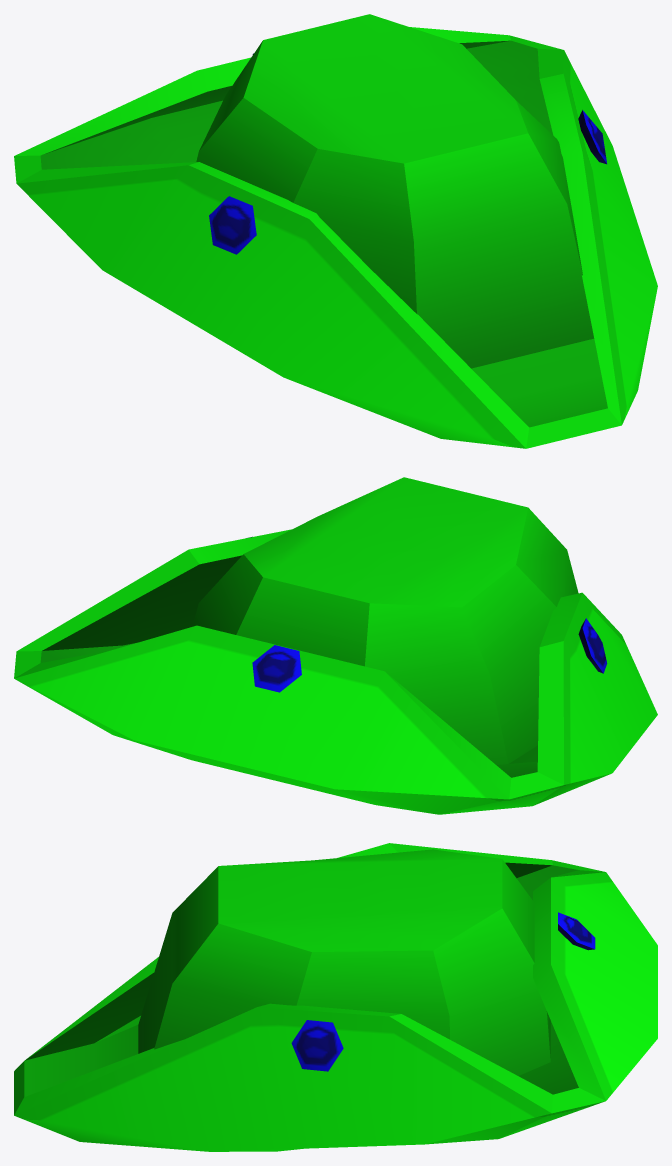
File: PirateHat.fbx
The picture shows the model from 3 angles, top to bottom: view 1: azimuth 30°, elevation 25°; view 2: azimuth 150°, elevation 25°; view 3: azimuth 270°, elevation 25°; orthographic projection. The views are drawn at different scales.
Parts seen in each view (by area): view 1: PirateHat; view 2: PirateHat; view 3: PirateHat.
Part boxes in pixels (<box>): PirateHat: <box>14,14,657,448</box>; PirateHat: <box>14,477,657,814</box>; PirateHat: <box>14,843,657,1151</box>.
Size of the model in its own units: 38.14 by 14.93 by 40.99.
